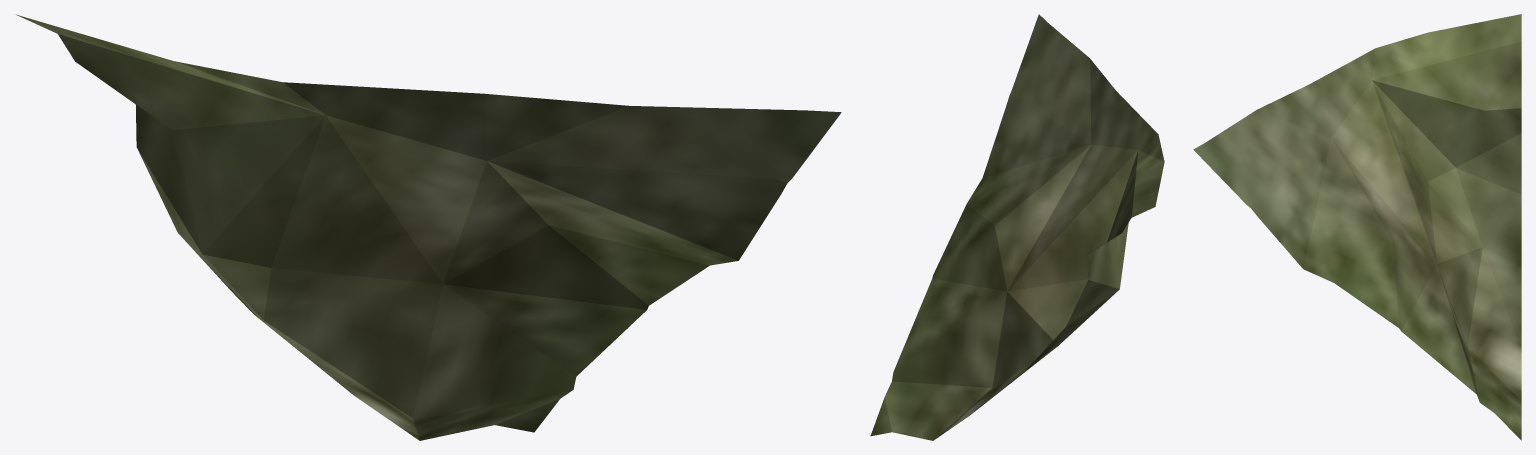
3 renders of one model, left to right at view 1: azimuth 30°, elevation 25°; view 2: azimuth 150°, elevation 25°; view 3: azimuth 270°, elevation 25°, orthographic. The views are drawn at different scales.
Bounding box in the file's own units: 0.4305 × 0.4314 × 0.4409.
Materials: 1 (1 with a texture image).
